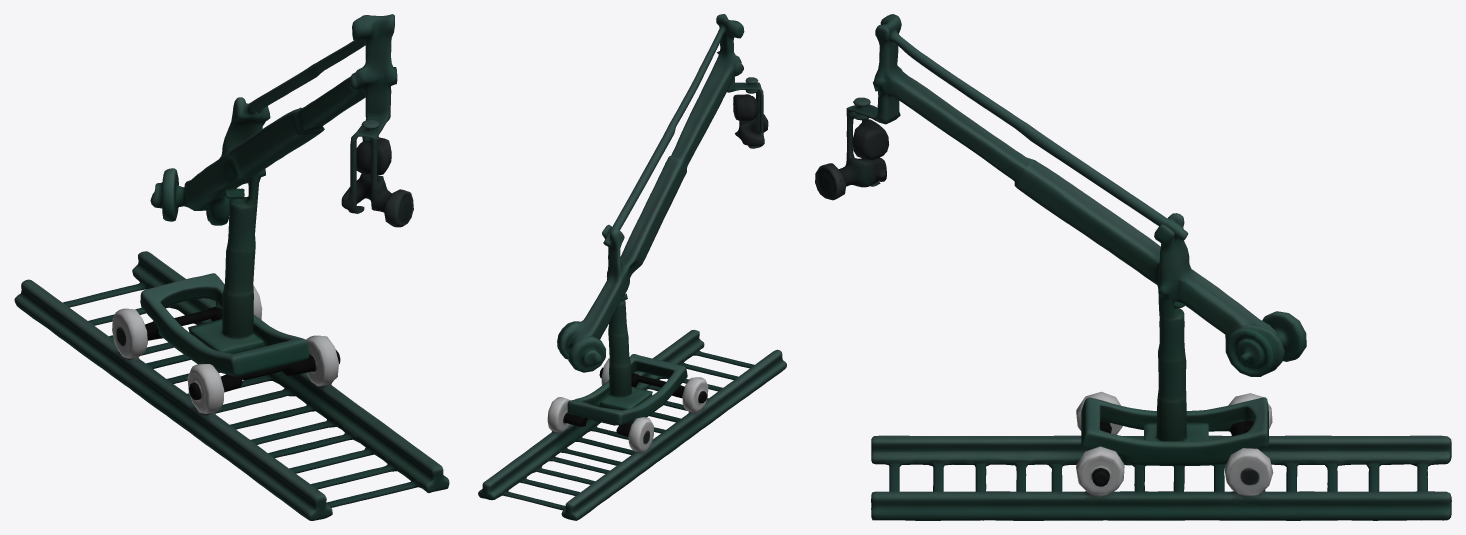
Rendered from original.glb.
The picture shows the model from 3 angles, left to right: view 1: azimuth 30°, elevation 25°; view 2: azimuth 150°, elevation 25°; view 3: azimuth 270°, elevation 25°; orthographic projection. The views are drawn at different scales.
Parts seen in each view (by area): view 1: model; view 2: model; view 3: model.
Boxes of the visible parts, x1,y1,x2,y2 form: model: (14,14,449,520); model: (478,14,786,520); model: (815,14,1451,520).
Size of the model in its own units: 0.4845 by 1.55 by 1.9.
Materials: 1 (1 with a texture image).
